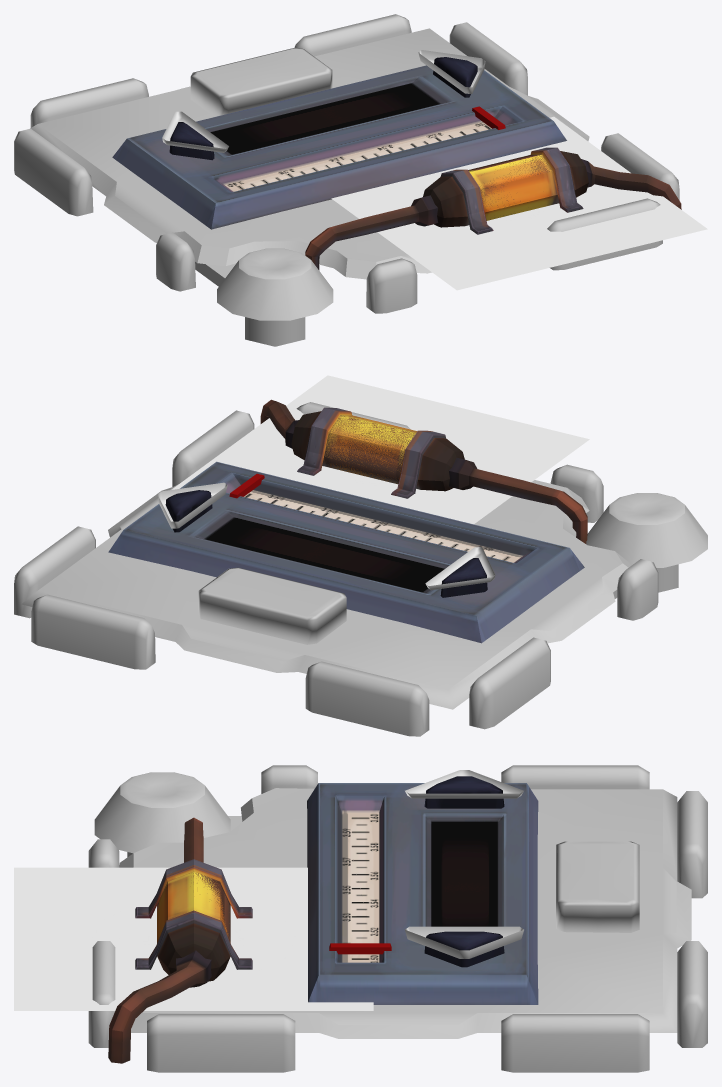
Rendered from MorseComponent.fbx.
3 renders of one model, top to bottom at view 1: azimuth 30°, elevation 25°; view 2: azimuth 150°, elevation 25°; view 3: azimuth 270°, elevation 25°, orthographic. The views are drawn at different scales.
Visible parts, largest first — view 1: Component_PuzzleBackground, Base, LightGlow, LED_Ext_Lit, button_transmit, LED_Lit, Highlight (×2), Button_RIGHT, Button_LEFT, LED_Unlit; view 2: Component_PuzzleBackground, Base, LightGlow, LED_Ext_Lit, button_transmit, LED_Unlit, LED_Lit, Highlight (×2), Button_RIGHT, Button_LEFT; view 3: Component_PuzzleBackground, Base, LightGlow, LED_Ext_Lit, button_transmit, Highlight (×2), LED_Lit, Button_RIGHT, Button_LEFT, Freq_Marker, LED_Unlit.
Boxes of the visible parts, left/top/right/bottom form: Component_PuzzleBackground: left=14, top=14, right=679, bottom=346; Base: left=112, top=65, right=566, bottom=229; LightGlow: left=331, top=116, right=707, bottom=290; LED_Ext_Lit: left=305, top=147, right=681, bottom=270; button_transmit: left=190, top=47, right=332, bottom=116; LED_Lit: left=469, top=155, right=557, bottom=220; Highlight (×2): left=162, top=50, right=485, bottom=152; Button_RIGHT: left=169, top=122, right=214, bottom=160; Button_LEFT: left=433, top=57, right=477, bottom=97; LED_Unlit: left=468, top=154, right=551, bottom=219; Component_PuzzleBackground: left=14, top=402, right=707, bottom=736; Base: left=108, top=461, right=584, bottom=643; LightGlow: left=171, top=375, right=589, bottom=524; LED_Ext_Lit: left=260, top=399, right=587, bottom=543; button_transmit: left=198, top=567, right=346, bottom=644; LED_Unlit: left=324, top=415, right=415, bottom=483; LED_Lit: left=324, top=415, right=417, bottom=483; Highlight (×2): left=157, top=482, right=495, bottom=590; Button_RIGHT: left=440, top=558, right=487, bottom=597; Button_LEFT: left=165, top=490, right=212, bottom=532; Component_PuzzleBackground: left=88, top=765, right=707, bottom=1072; Base: left=307, top=783, right=538, bottom=1004; LightGlow: left=14, top=867, right=373, bottom=1010; LED_Ext_Lit: left=108, top=817, right=252, bottom=1063; button_transmit: left=556, top=841, right=639, bottom=932; Highlight (×2): left=405, top=770, right=523, bottom=958; LED_Lit: left=157, top=872, right=229, bottom=943; Button_RIGHT: left=424, top=776, right=504, bottom=808; Button_LEFT: left=424, top=931, right=504, bottom=967; Freq_Marker: left=329, top=943, right=391, bottom=954; LED_Unlit: left=157, top=873, right=230, bottom=942.
Bounding box in the file's own units: 0.2 × 0.0427 × 0.2241.
